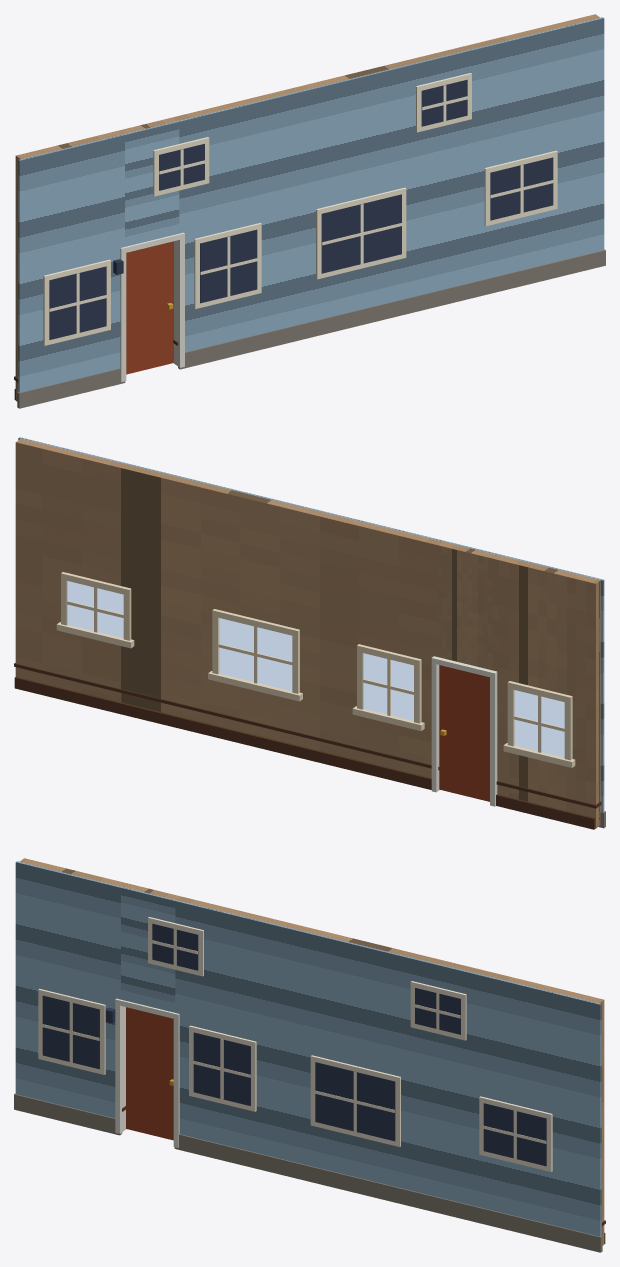
File: front.glb
The picture shows the model from 3 angles, top to bottom: view 1: azimuth 30°, elevation 25°; view 2: azimuth 150°, elevation 25°; view 3: azimuth 330°, elevation 25°; orthographic projection.
Parts seen in each view (by area): view 1: Box8, Box6, Box9, Box14, Box10, Box40, Box18, Box29, Box51, Box3, Box7, Box39 (+10 smaller); view 2: Box3, Box1, Box5, Box14, Box4, Box47, Box25, Box36, Box72, Box58, Box73, Box6 (+12 smaller); view 3: Box8, Box6, Box9, Box14, Box10, Box40, Box3, Box29, Box18, Box51, Box39, Box7 (+10 smaller).
Part boxes in pixels (left/top/right/bottom): Box8: left=178, top=17, right=604, bottom=368; Box6: left=18, top=134, right=124, bottom=392; Box9: left=179, top=249, right=605, bottom=369; Box14: left=126, top=241, right=173, bottom=374; Box10: left=124, top=121, right=179, bottom=246; Box40: left=321, top=194, right=401, bottom=273; Box18: left=49, top=266, right=106, bottom=339; Box29: left=200, top=229, right=257, bottom=303; Box51: left=490, top=157, right=553, bottom=220; Box3: left=173, top=14, right=600, bottom=120; Box7: left=17, top=368, right=125, bottom=408; Box39: left=316, top=187, right=406, bottom=279; Box3: left=15, top=439, right=442, bottom=777; Box1: left=492, top=555, right=600, bottom=828; Box5: left=438, top=542, right=497, bottom=670; Box14: left=439, top=665, right=489, bottom=801; Box4: left=14, top=677, right=431, bottom=789; Box47: left=219, top=618, right=292, bottom=691; Box25: left=514, top=690, right=564, bottom=757; Box36: left=363, top=653, right=413, bottom=720; Box72: left=15, top=667, right=426, bottom=775; Box58: left=67, top=581, right=123, bottom=638; Box73: left=14, top=663, right=439, bottom=770; Box6: left=498, top=554, right=604, bottom=812; Box8: left=175, top=900, right=601, bottom=1236; Box6: left=15, top=861, right=122, bottom=1134; Box9: left=174, top=1134, right=602, bottom=1252; Box14: left=126, top=1007, right=173, bottom=1140; Box10: left=121, top=887, right=175, bottom=1012; Box40: left=315, top=1062, right=395, bottom=1141; Box3: left=177, top=896, right=604, bottom=1245; Box29: left=193, top=1032, right=250, bottom=1105; Box18: left=42, top=995, right=99, bottom=1069; Box51: left=483, top=1103, right=546, bottom=1166; Box39: left=310, top=1055, right=400, bottom=1146; Box7: left=14, top=1093, right=120, bottom=1135.
Size of the model in its own units: 10.27 by 4.14 by 0.395.
Materials: 11 (2 with a texture image).
